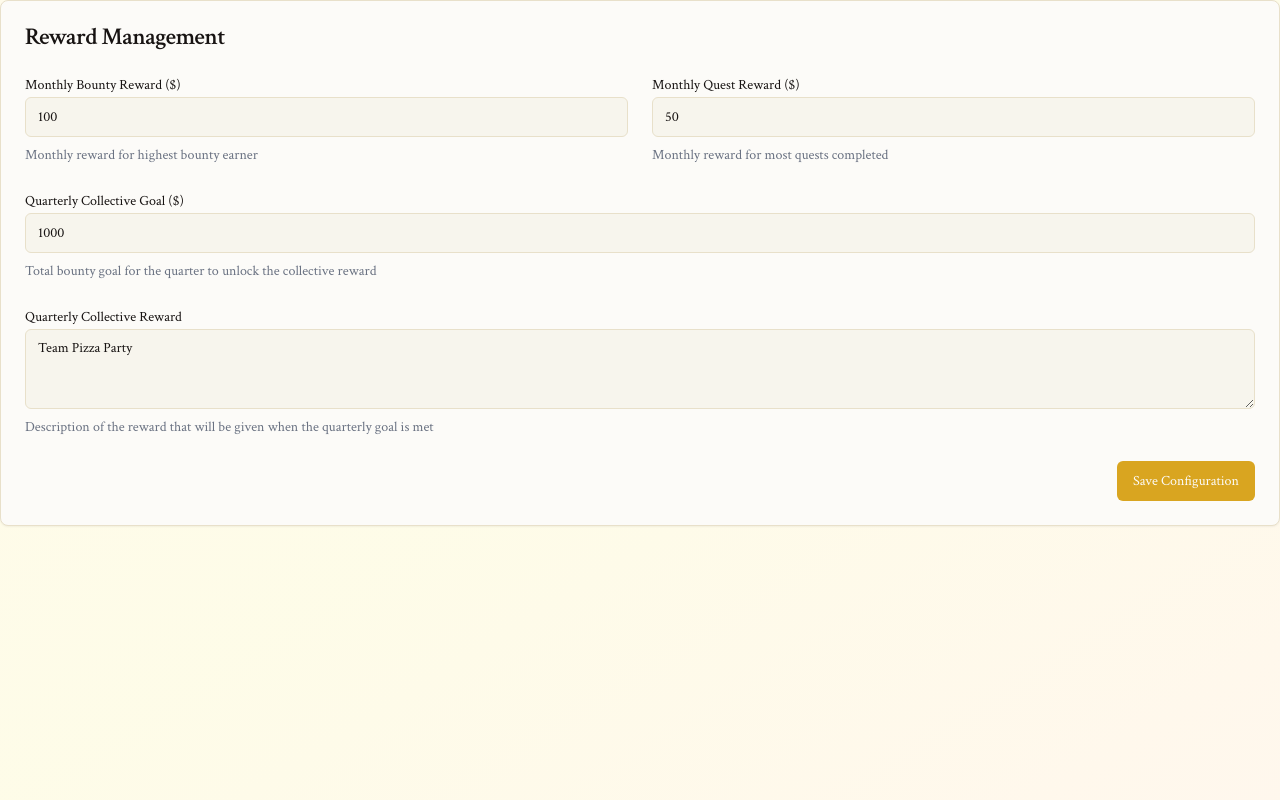
Test case: RewardManagement › should show loading state during form submission
This screenshot has width=1280, height=800.
Expected: the number field showing "100" is shown, [25, 97, 628, 137]
Click the button "Save Configuration". click: [1186, 481]
box: [1117, 461, 1255, 501]
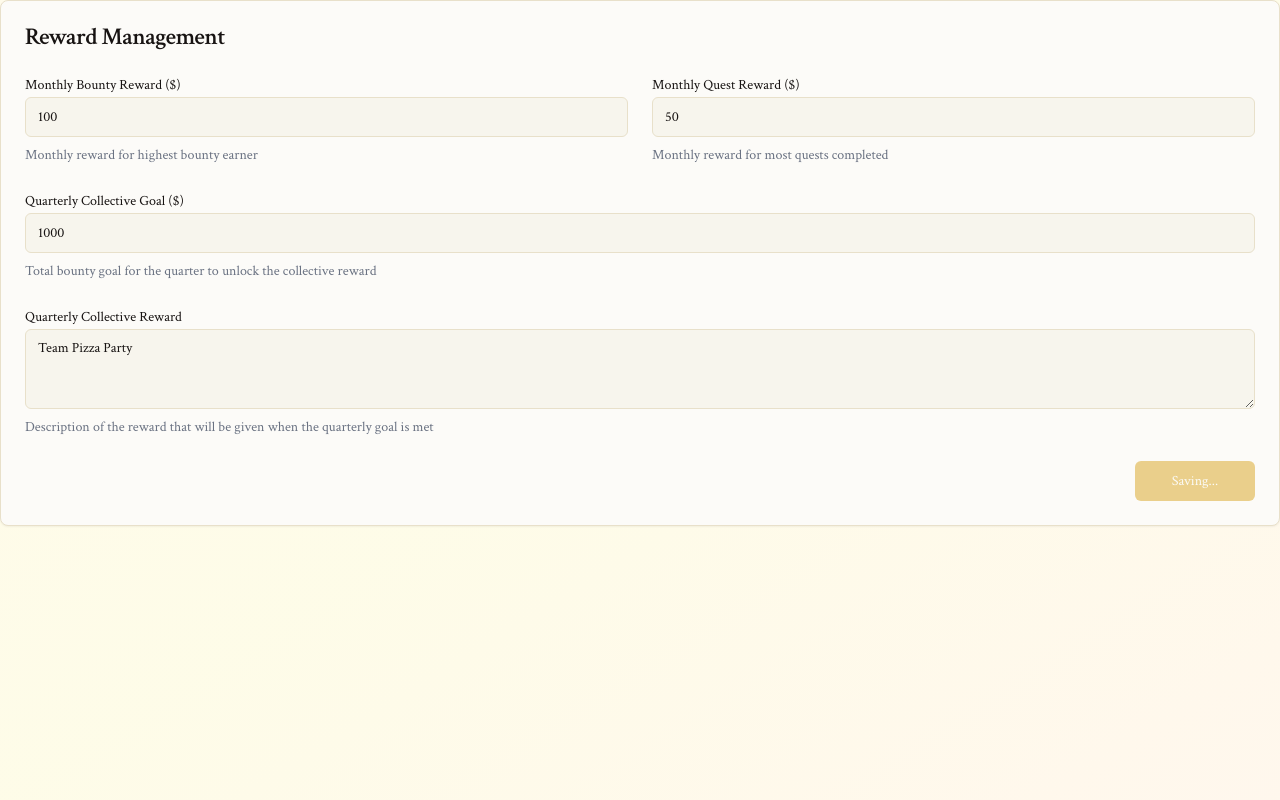
Result: the button "Saving..." is shown at [1135, 461, 1255, 501]
